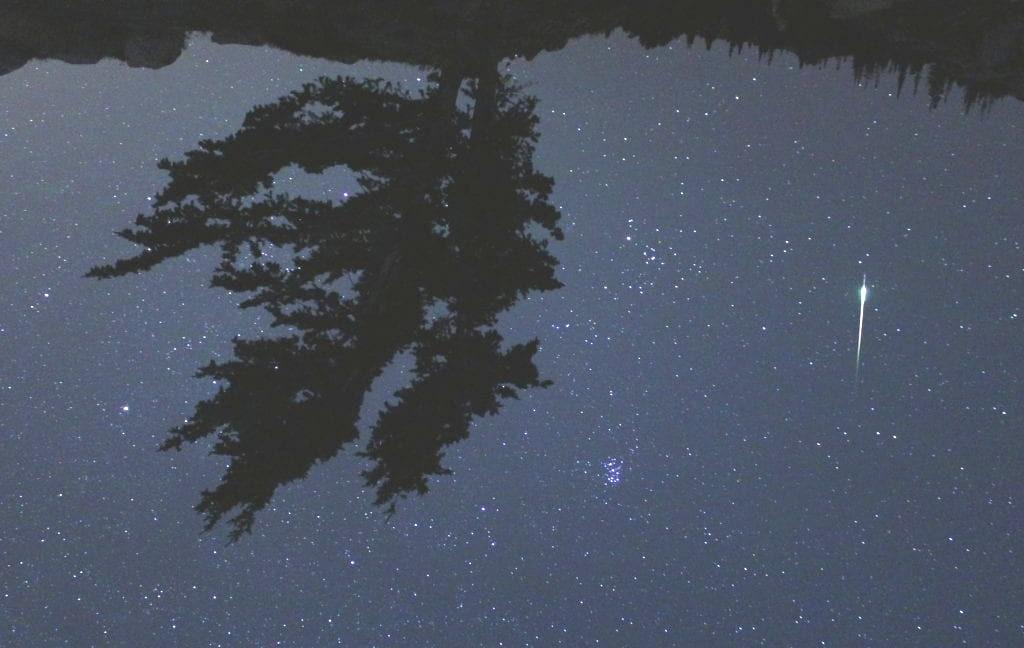meteorite: (840, 262, 880, 387)
